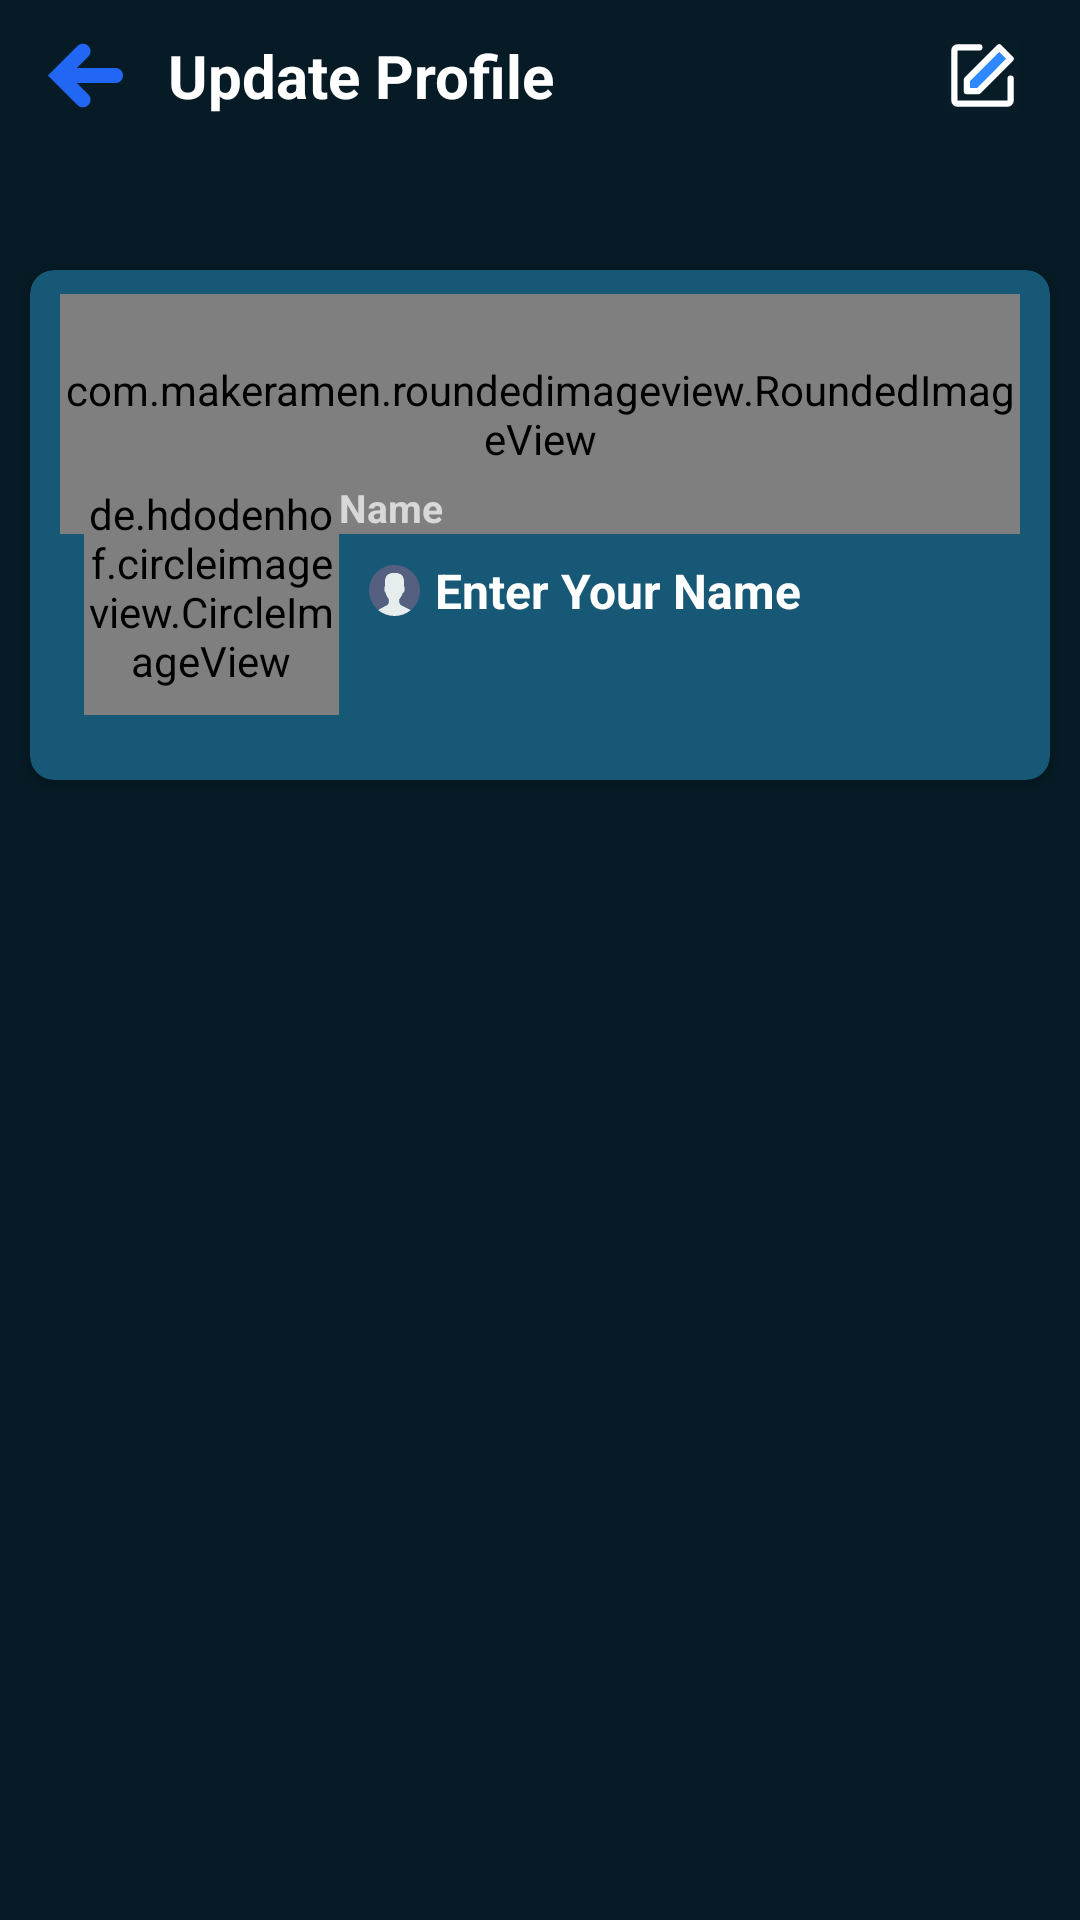

Screen size 1080 x 1920. Icon name, then its center in pixels as (x=x, y=y):
back: (x=85, y=75)
edit profile: (x=982, y=75)
